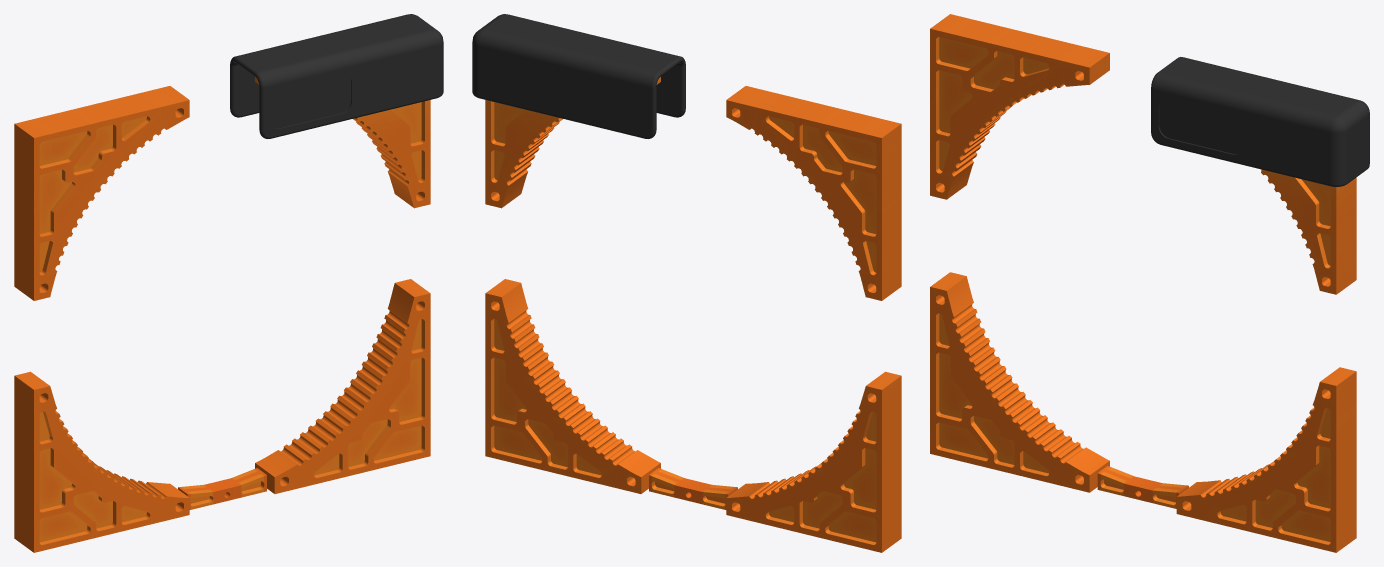
File: diskOpaqueFinal.glb
3 renders of one model, left to right at view 1: azimuth 30°, elevation 25°; view 2: azimuth 150°, elevation 25°; view 3: azimuth 330°, elevation 25°, orthographic. The views are drawn at different scales.
Parts seen in each view (by area): view 1: SUBSTANCE_IN_01.001, SUBSTANCE_IN_01.002; view 2: SUBSTANCE_IN_01.001, SUBSTANCE_IN_01.002; view 3: SUBSTANCE_IN_01.001, SUBSTANCE_IN_01.002.
Boxes of the visible parts, x1,y1,x2,y2 form: SUBSTANCE_IN_01.001: (14,77,430,552); SUBSTANCE_IN_01.002: (230,14,443,138); SUBSTANCE_IN_01.001: (485,77,901,552); SUBSTANCE_IN_01.002: (472,14,685,138); SUBSTANCE_IN_01.001: (930,14,1356,552); SUBSTANCE_IN_01.002: (1151,57,1369,186).
Size of the model in its own units: 0.144 by 0.144 by 0.02.
Materials: 2 (2 with a texture image).
